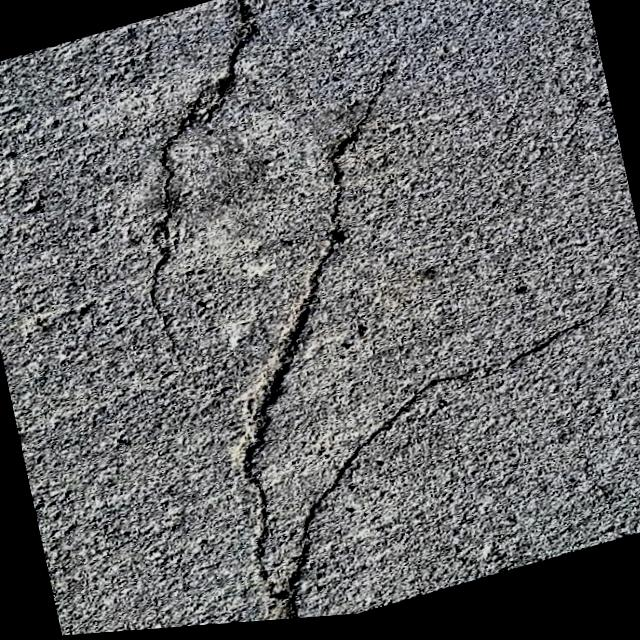cracks: (295, 322, 590, 590), (245, 168, 343, 619), (163, 0, 266, 255)
